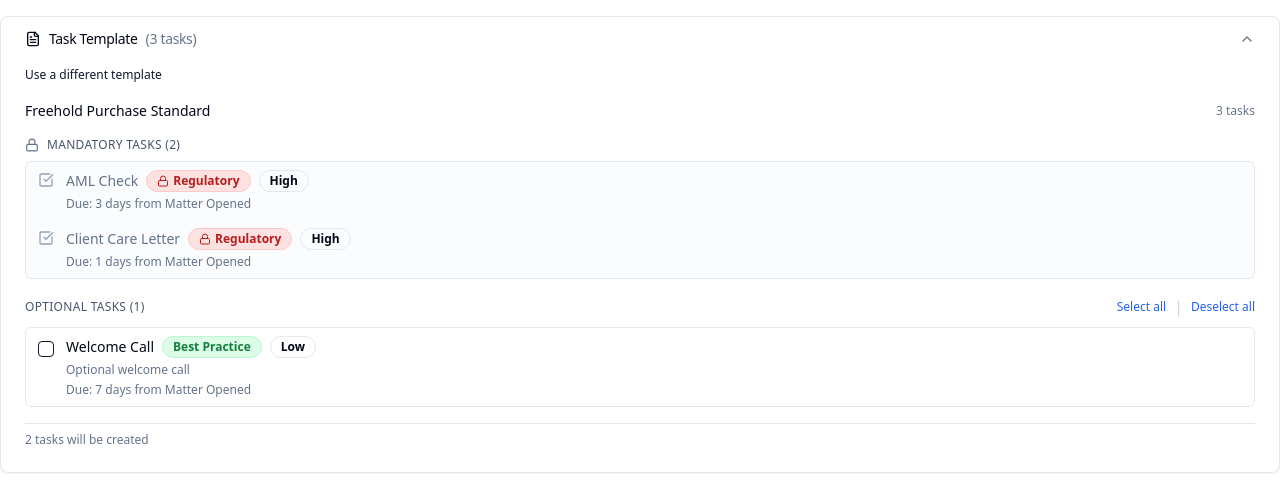
Scenario: TemplateSelector › Multiple templates › hides template list when Cancel is clicked
What coordinates should you click on to do the following:
click the button "Use a different template"
I would click on:
 (93, 75)
Its box is [25,67,162,83].
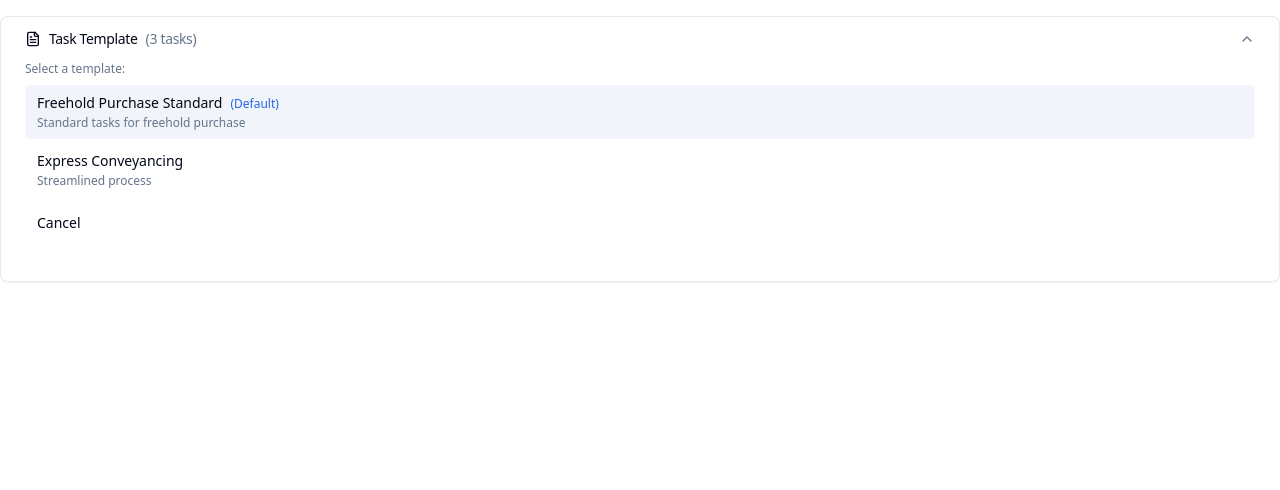
expect the button "Cancel" is shown: met
What coordinates should you click on to do the following:
click the button "Cancel"
I would click on:
 (59, 223)
Its box is [25,205,93,241].
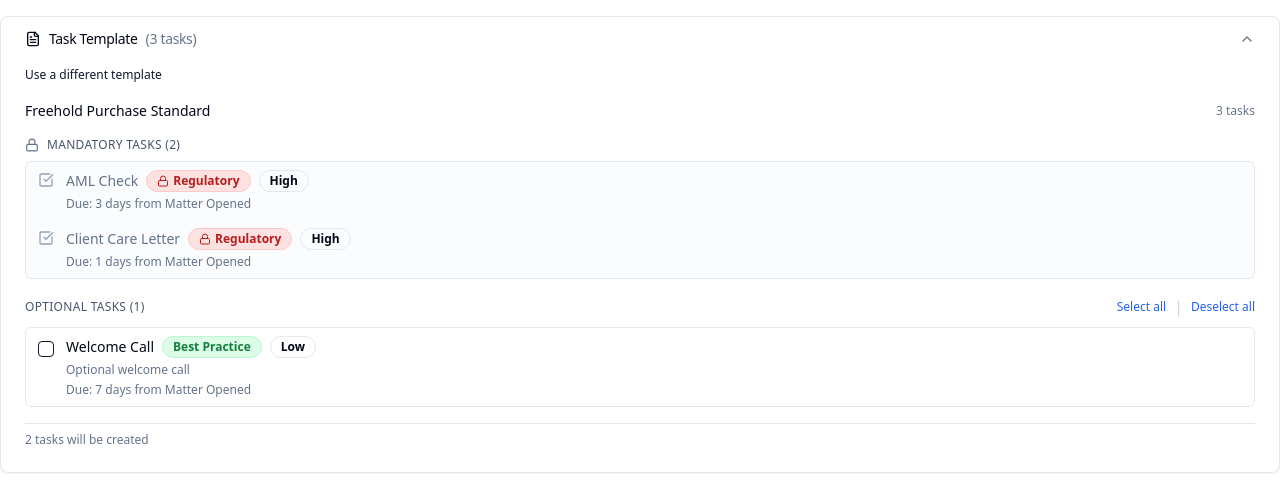
expect the text "Select a template:" is gone: met
